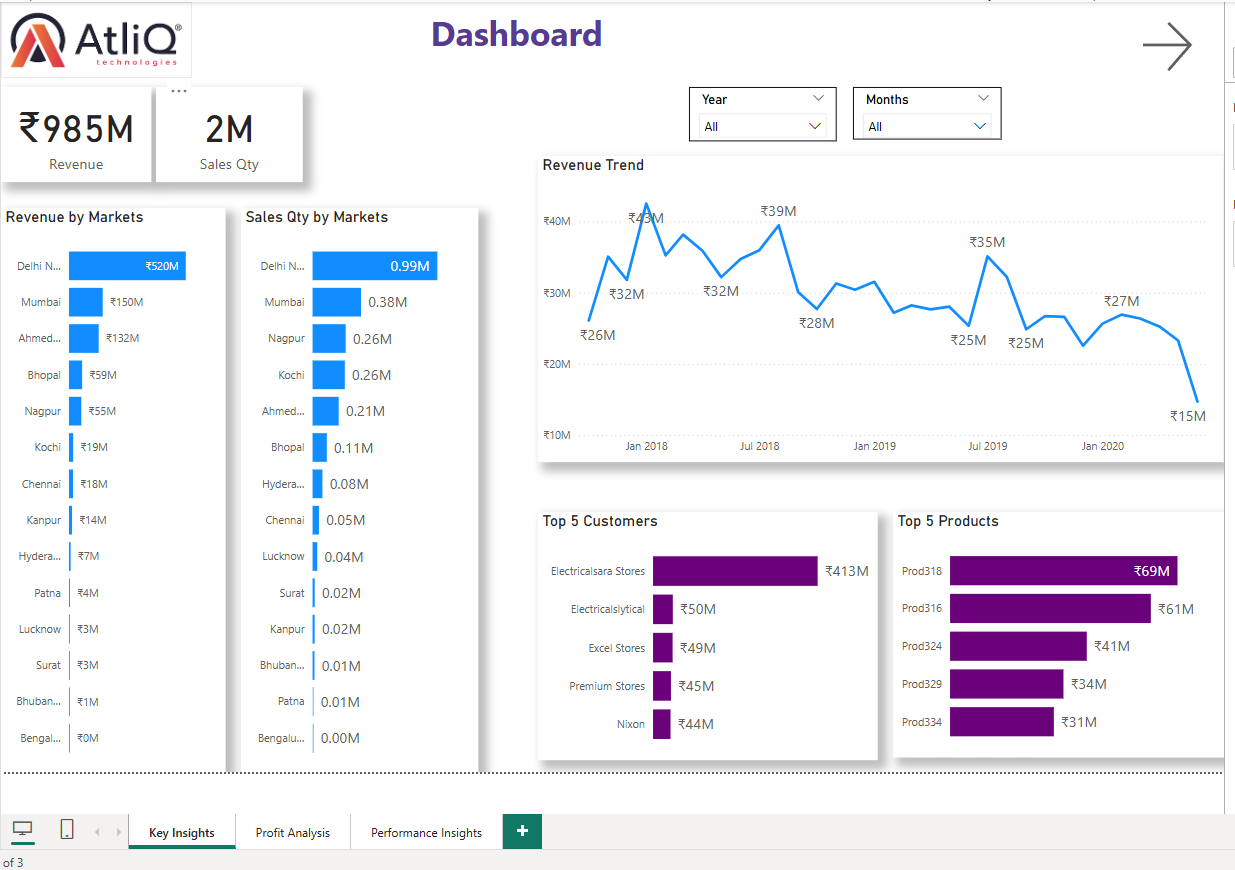

What the dashboard file says about the page in this screenshot:
{"tool":"powerbi","page":{"name":"Key Insights","canvas":[1350,850],"ordinal":0},"visuals":[{"type":"card","fields":{"Values":["BaseMeasures (2).Revenue"]},"box":[0,94.1,166,104.7],"z":0},{"type":"card","fields":{"Values":["BaseMeasures (2).Sales Qty"]},"box":[171.3,94.1,161.8,104.7],"z":1000},{"type":"barChart","title":"Revenue by Markets","fields":{"Y":["BaseMeasures (2).Revenue"],"Category":["sales markets.markets_name"]},"box":[0,227.3,248.4,622.7],"z":2000},{"type":"barChart","title":"Sales Qty by Markets","fields":{"Y":["BaseMeasures (2).Sales Qty"],"Category":["sales markets.markets_name"]},"box":[265.4,227.3,262.2,622.7],"z":3000},{"type":"barChart","title":"Top 5 Customers","fields":{"Y":["BaseMeasures (2).Revenue"],"Category":["sales customers.custmer_name"]},"box":[593.1,562.4,375.3,273.8],"z":4000},{"type":"barChart","title":"Top 5 Products","fields":{"Y":["BaseMeasures (2).Revenue"],"Category":["Sales transactions.product_code"]},"box":[984.1,563,366.2,270.6],"z":5000},{"type":"lineChart","title":"Revenue Trend","fields":{"Y":["BaseMeasures (2).Revenue"],"Category":["sales date.cy_date"]},"box":[593.1,170.2,757,338.3],"z":6000},{"type":"slicer","fields":{"Values":["sales date.year"]},"box":[759.1,94.1,162.8,60.3],"z":7000},{"type":"slicer","fields":{"Values":["sales date.cy_date"]},"box":[940.9,94.1,163.9,58.1],"z":8000},{"type":"image","box":[0,0,210.4,83.5],"z":9000},{"type":"textbox","box":[469.4,3.2,222,80.3],"z":10000},{"type":"actionButton","box":[1252.8,15.9,85.6,67.7],"z":11001}]}

Visuals, with their boxes on the page's 1350x850 design canvas (x1, y1, x2, y2). These are canvas units, not pixel positions in the 1235x870 screenshot, which may show the page scaled, cropped or inside an application window:
card - BaseMeasures (2).Revenue: <box>0,94,166,199</box>
card - BaseMeasures (2).Sales Qty: <box>171,94,333,199</box>
"Revenue by Markets" barChart: <box>0,227,248,850</box>
"Sales Qty by Markets" barChart: <box>265,227,528,850</box>
"Top 5 Customers" barChart: <box>593,562,968,836</box>
"Top 5 Products" barChart: <box>984,563,1350,834</box>
"Revenue Trend" lineChart: <box>593,170,1350,508</box>
slicer - sales date.year: <box>759,94,922,154</box>
slicer - sales date.cy_date: <box>941,94,1105,152</box>
image: <box>0,0,210,84</box>
textbox: <box>469,3,691,84</box>
actionButton: <box>1253,16,1338,84</box>
